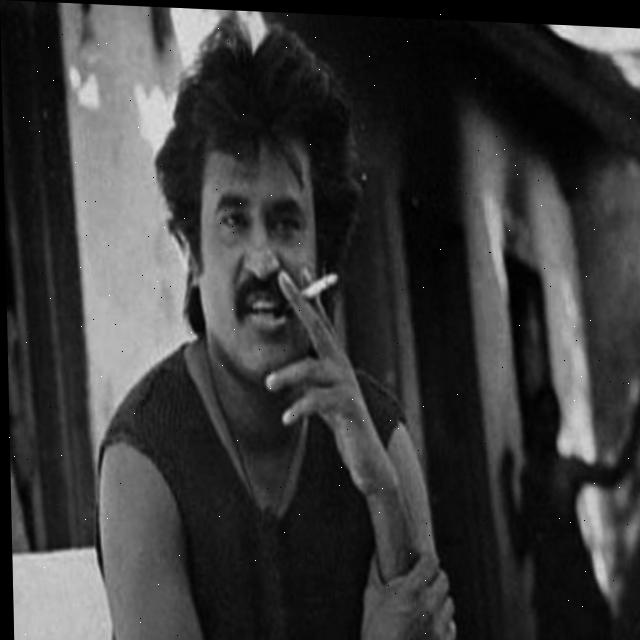cigarette: (297, 269, 337, 303)
